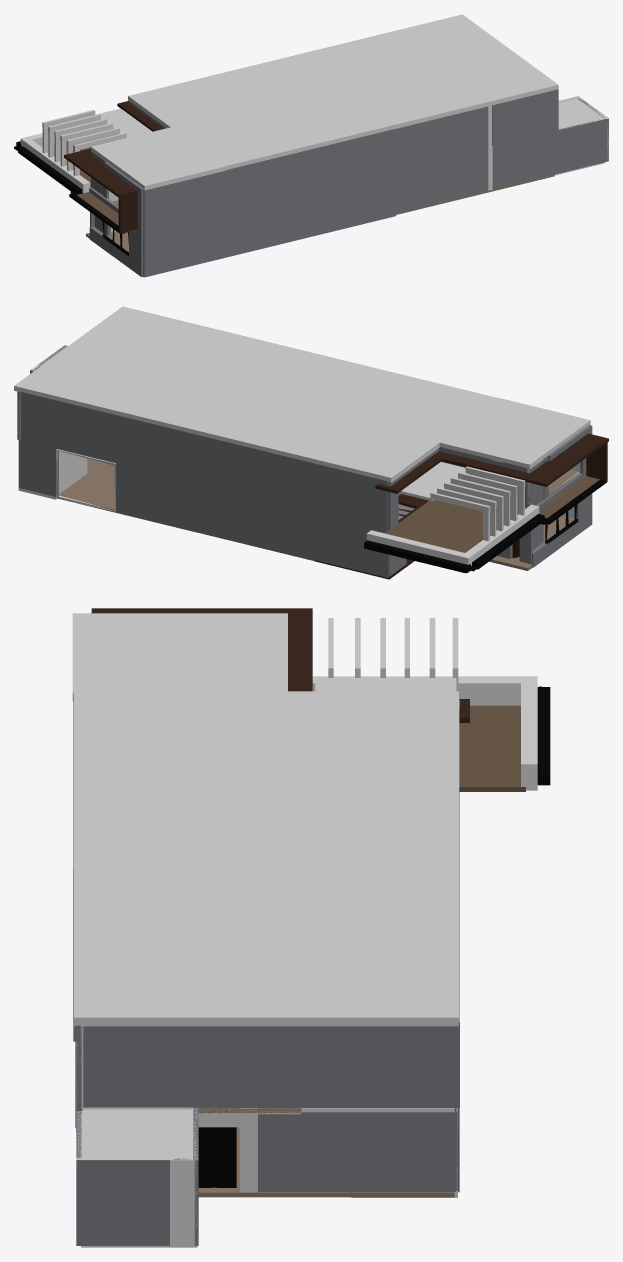
The model's file is modern-house.lod1.glb.
The picture shows the model from 3 angles, top to bottom: view 1: azimuth 30°, elevation 25°; view 2: azimuth 150°, elevation 25°; view 3: azimuth 270°, elevation 25°; orthographic projection. The views are drawn at different scales.
Visible parts, largest first — view 1: Object_2; view 2: Object_2; view 3: Object_2.
Boxes of the visible parts, x1=… form: Object_2: x1=14, y1=14, x2=608, y2=277; Object_2: x1=14, y1=306, x2=608, y2=579; Object_2: x1=72, y1=608, x2=550, y2=1247.
Size of the model in its own units: 35.73 by 6.46 by 15.19.
